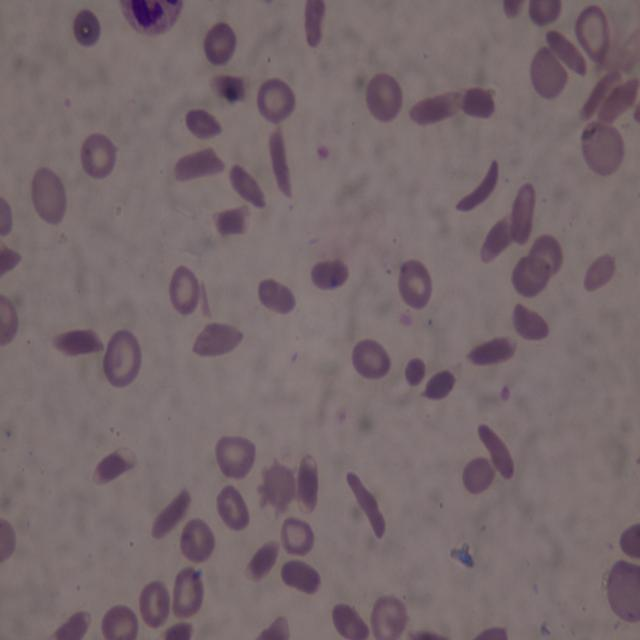Crystal: (344, 472, 386, 541), (476, 424, 516, 480), (544, 28, 588, 78), (480, 211, 519, 265), (150, 488, 191, 539), (408, 90, 462, 126), (173, 145, 226, 181), (228, 163, 268, 208), (467, 334, 515, 367), (510, 182, 535, 244), (49, 608, 91, 640), (304, 0, 327, 50)
Normal: (256, 76, 296, 122), (80, 130, 116, 178), (279, 514, 317, 558), (169, 264, 201, 312)
Others: (116, 0, 186, 38), (580, 119, 623, 177), (103, 328, 142, 388), (576, 2, 612, 66), (29, 164, 68, 223), (528, 45, 570, 99), (258, 458, 296, 516), (605, 557, 638, 623), (364, 73, 404, 124), (214, 432, 256, 480), (190, 320, 243, 358), (244, 534, 285, 582), (92, 444, 137, 486), (280, 556, 323, 598), (509, 253, 550, 297), (398, 256, 432, 307), (350, 336, 391, 378), (216, 482, 250, 532), (511, 300, 551, 342), (526, 233, 562, 279), (178, 516, 215, 560), (138, 580, 172, 627), (370, 595, 408, 637), (172, 567, 202, 618), (331, 601, 370, 640), (582, 251, 618, 293), (297, 452, 320, 516), (257, 277, 297, 313), (460, 456, 496, 496), (202, 23, 236, 65), (101, 604, 140, 640), (456, 85, 496, 120), (418, 368, 458, 402), (310, 258, 352, 290), (208, 72, 249, 104), (185, 108, 223, 140), (73, 8, 102, 48), (213, 207, 252, 235), (0, 294, 19, 347), (255, 614, 293, 640), (529, 1, 565, 27), (619, 521, 640, 560), (1, 516, 16, 566), (403, 356, 426, 387), (161, 620, 196, 638), (0, 193, 14, 237), (471, 625, 510, 639), (503, 0, 531, 19)
Sickle: (455, 158, 499, 213), (577, 66, 620, 120), (595, 77, 639, 129), (268, 124, 296, 201), (52, 328, 105, 358), (0, 242, 22, 281)
